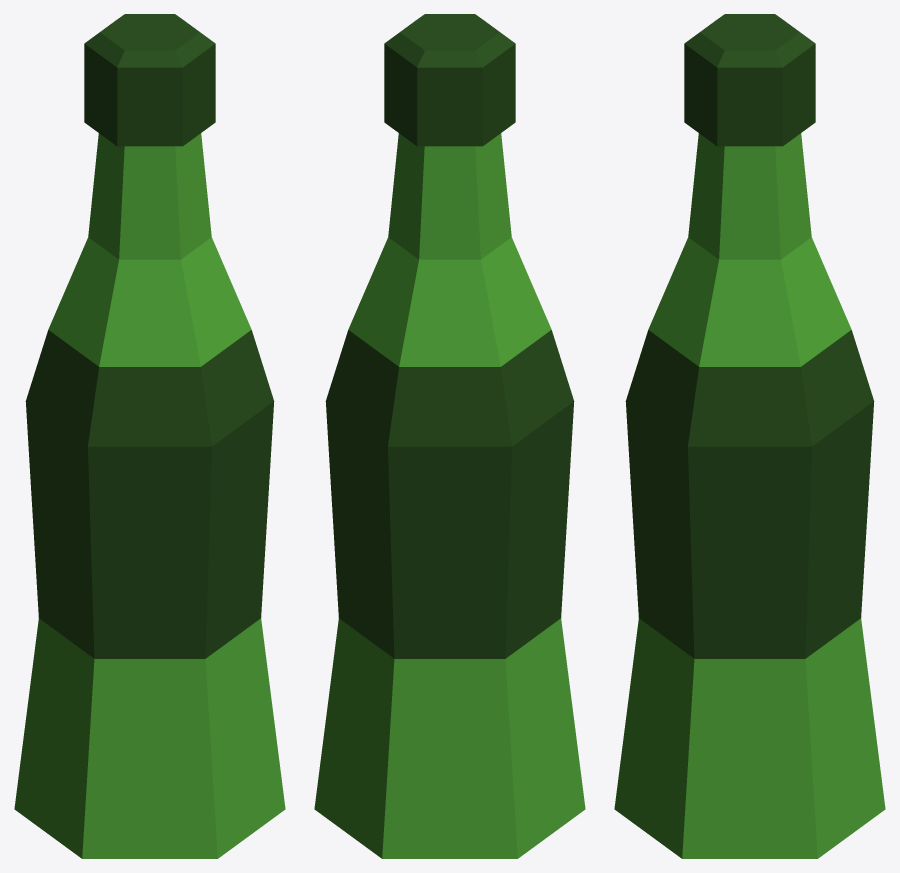
File: Bottle3Green.fbx
3 renders of one model, left to right at view 1: azimuth 30°, elevation 25°; view 2: azimuth 150°, elevation 25°; view 3: azimuth 270°, elevation 25°, orthographic.
Visible parts, largest first — view 1: Bottle3Green; view 2: Bottle3Green; view 3: Bottle3Green.
Part boxes in pixels (<box>): Bottle3Green: <box>14,14,285,858</box>; Bottle3Green: <box>314,14,585,858</box>; Bottle3Green: <box>614,14,885,858</box>.
Size of the model in its own units: 0.1016 by 0.3709 by 0.1173.
